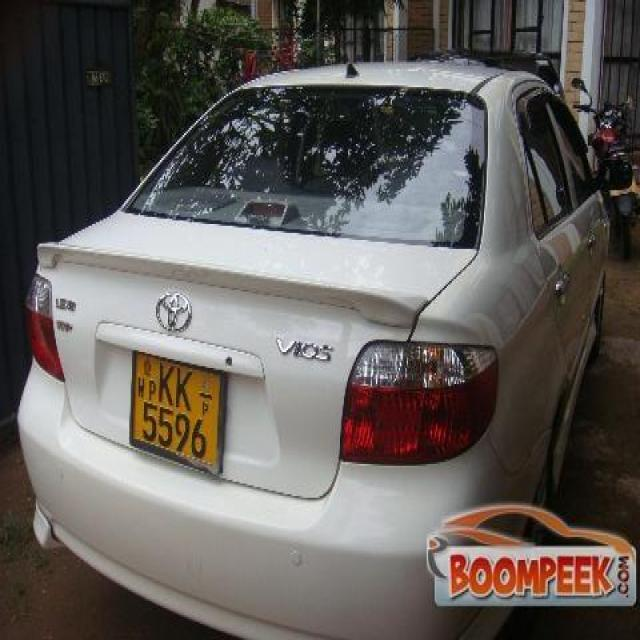license-plate: (132, 346, 216, 474)
